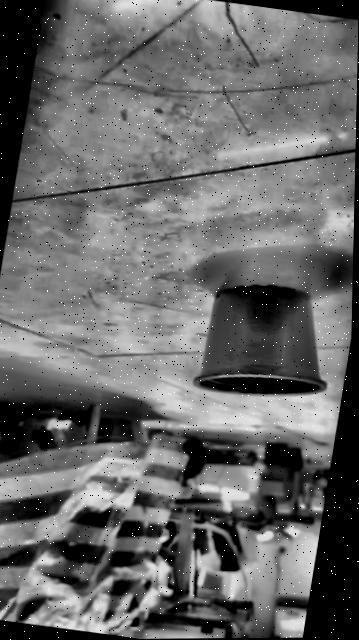pot: (190, 275, 339, 407)
